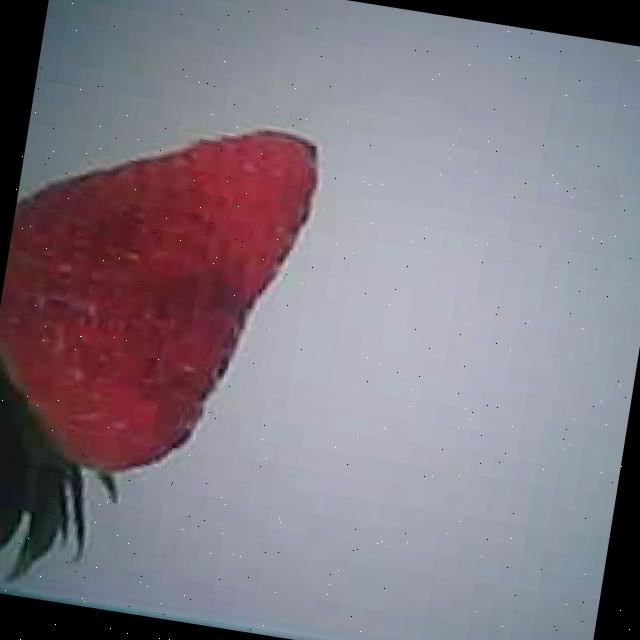strawberry: (0, 99, 321, 493)
